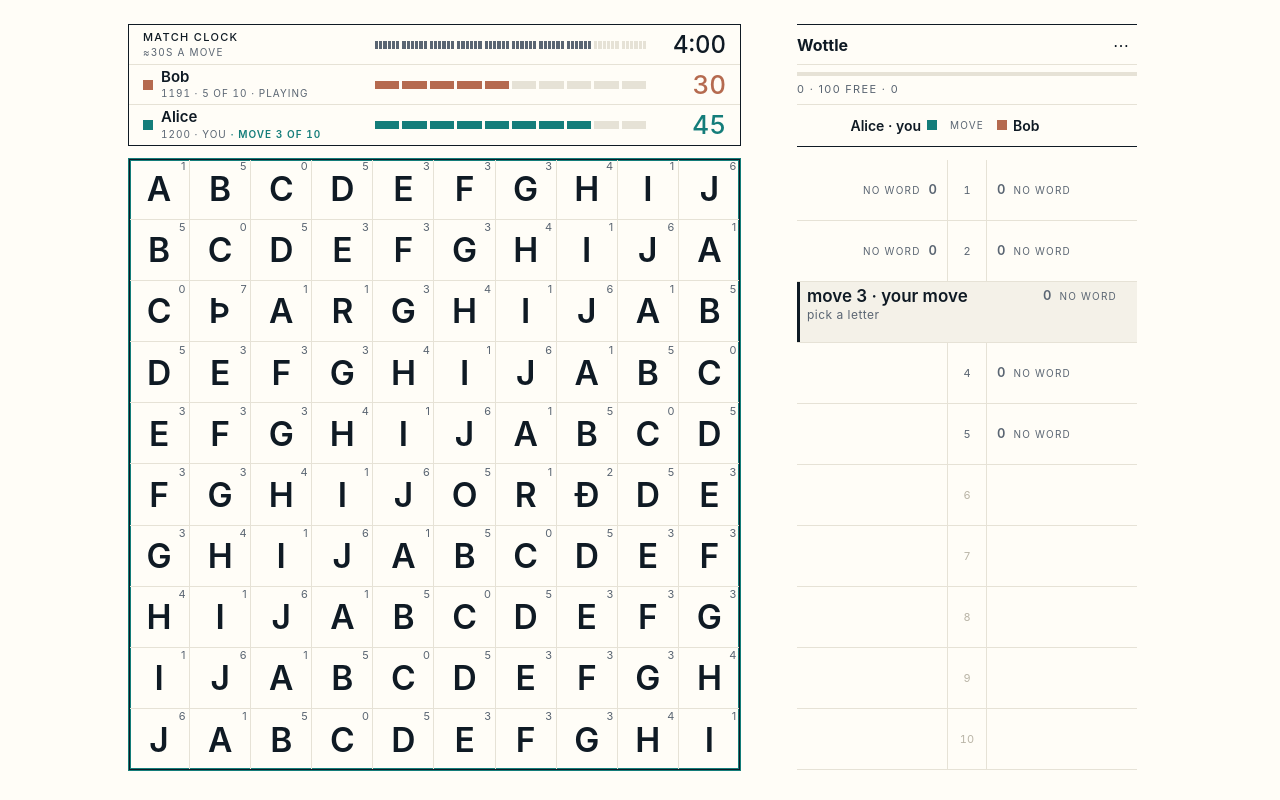
it: MatchRoomController (spec 050) › resign is decided on a slip that names your move and the clock (spec 048 US7)
Click the button with test id "ledger-menu-trigger" at {"x": 1121, "y": 44}, box top-left (1105, 30), bottom-right (1137, 58)
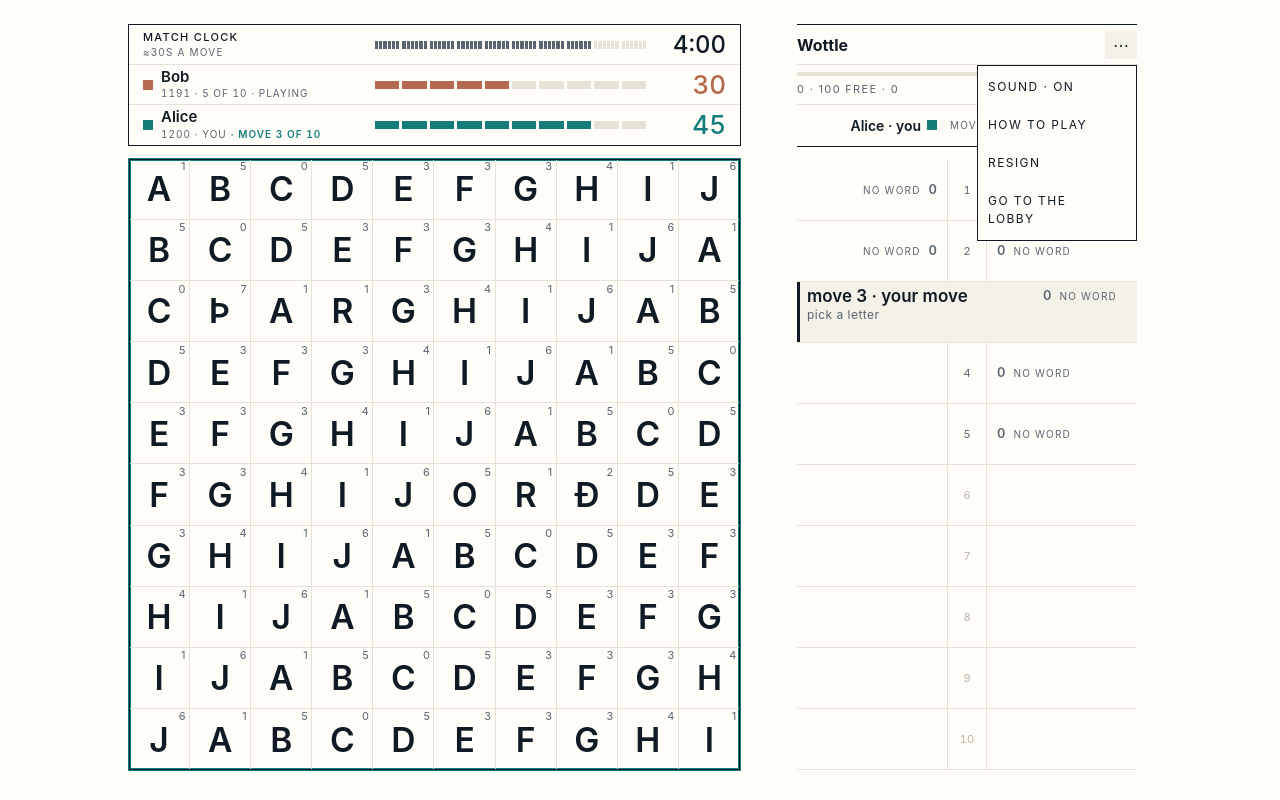
Click the menu item with test id "ledger-menu-item-resign" at {"x": 1049, "y": 162}, box top-left (980, 148), bottom-right (1118, 178)
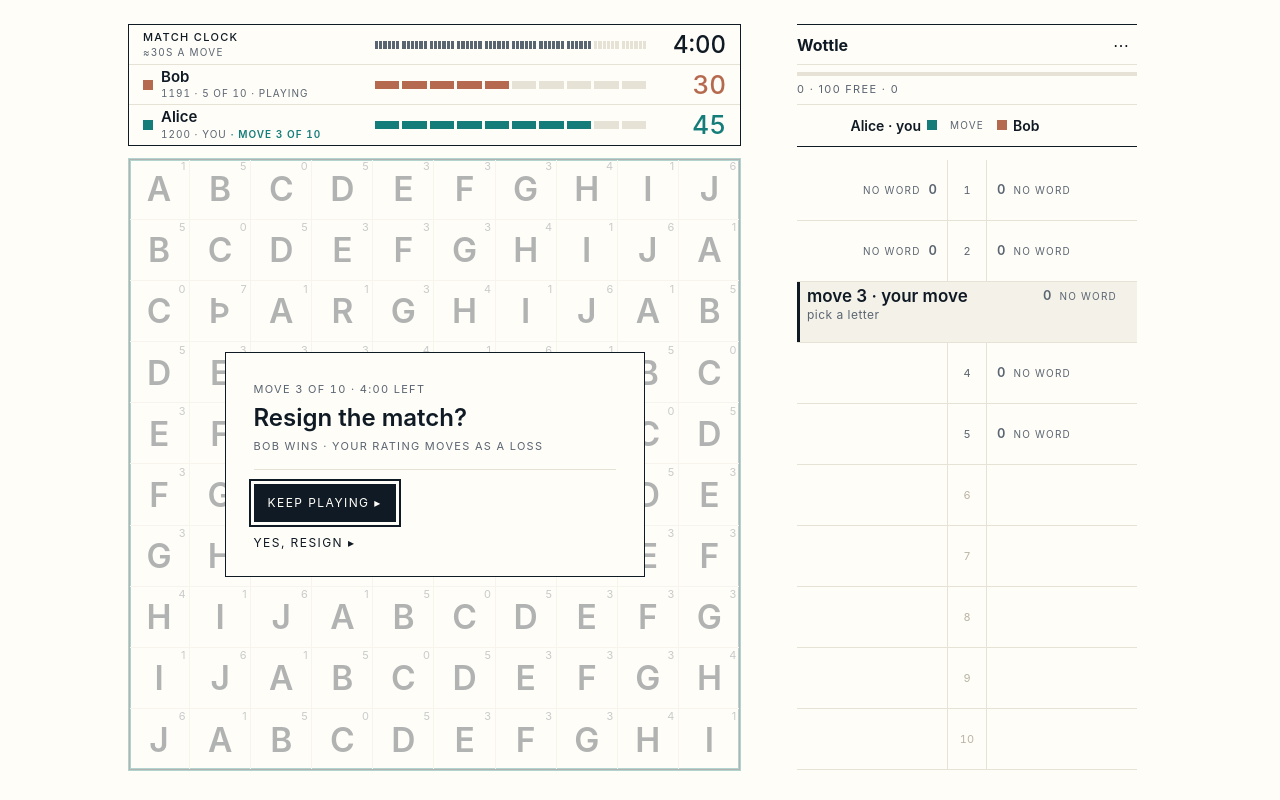
Expected: the dialog with test id "slip" shows "Resign the match?", top-left (254, 403), bottom-right (467, 432)
Expected: the dialog with test id "slip" shows "Bob wins · your rating moves as a loss", top-left (254, 439), bottom-right (543, 453)
Click the button with test id "slip-keep-playing" at {"x": 325, "y": 503}, box top-left (254, 484), bottom-right (396, 522)
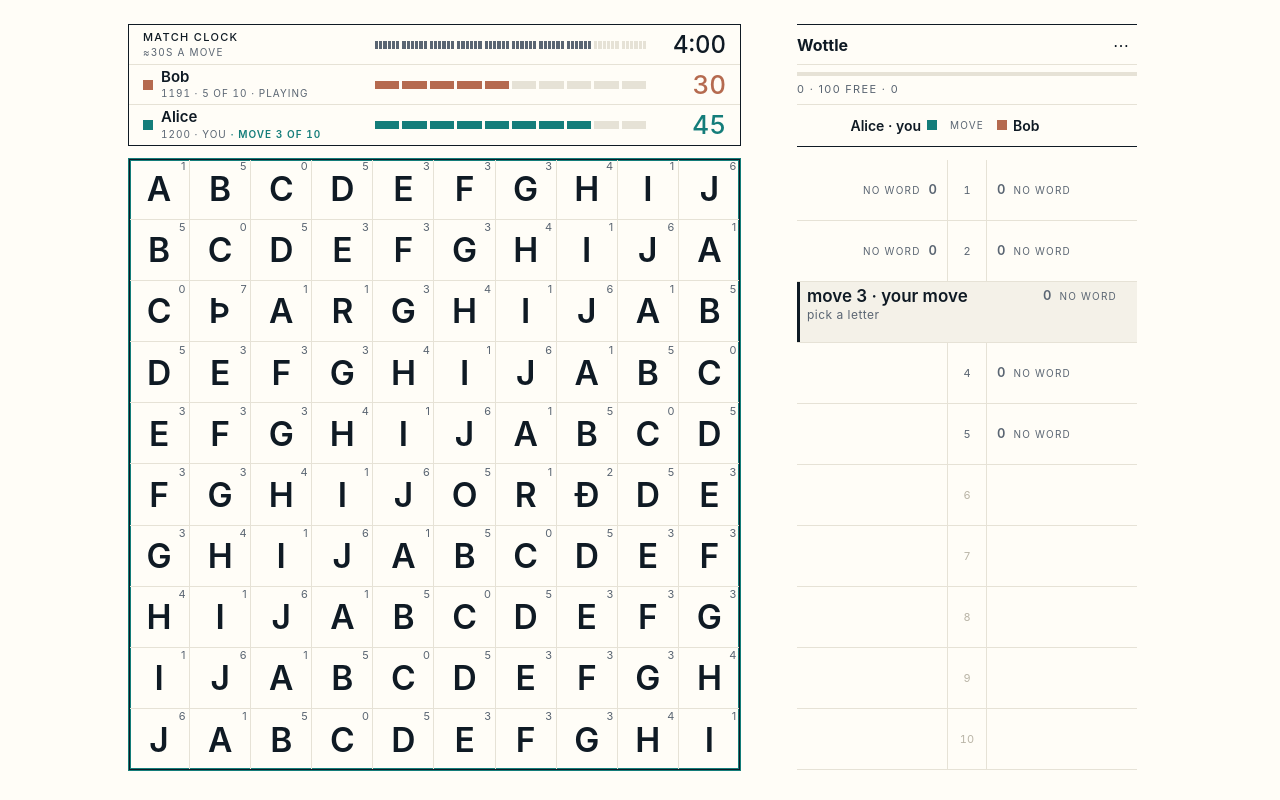
Expected: the dialog with test id "slip" is gone
Click the button with test id "ledger-menu-trigger" at {"x": 1121, "y": 44}, box top-left (1105, 30), bottom-right (1137, 58)
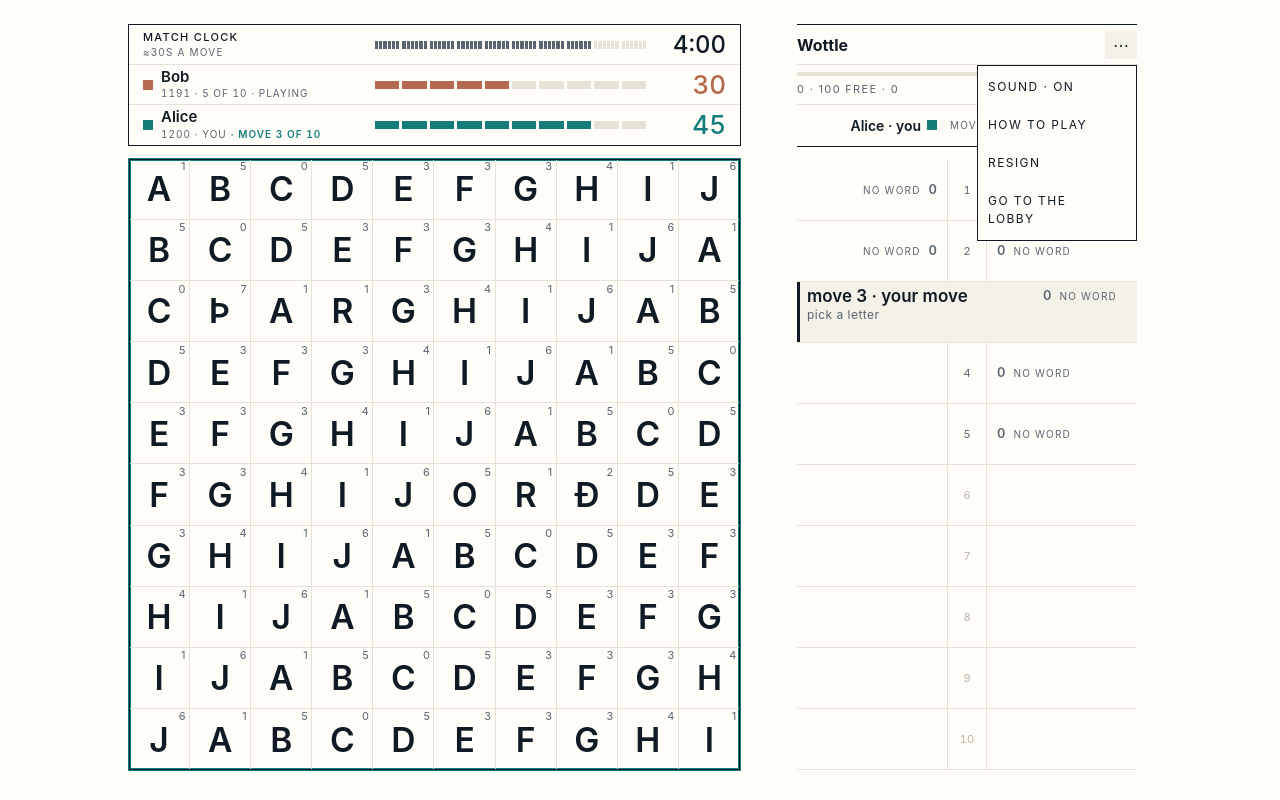
Click the menu item with test id "ledger-menu-item-resign" at {"x": 1049, "y": 162}, box top-left (980, 148), bottom-right (1118, 178)
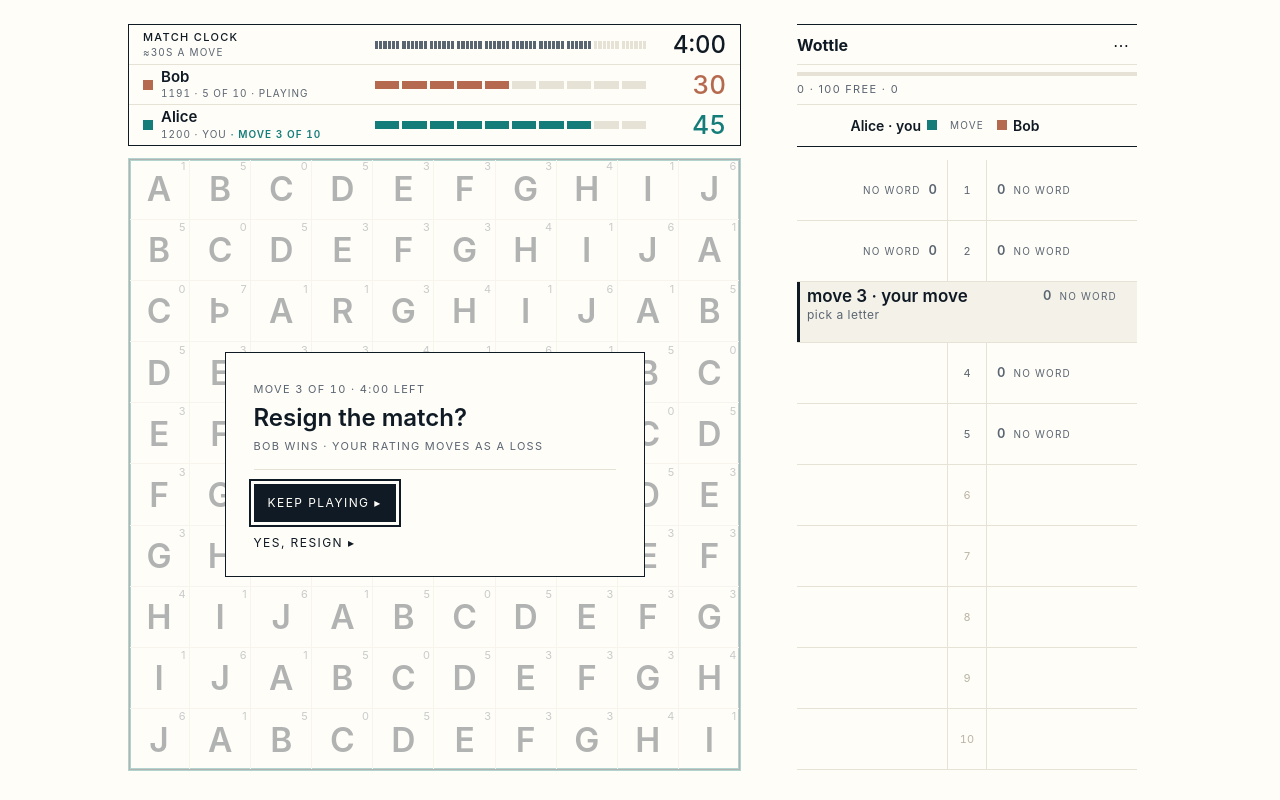
Click the button with test id "slip-confirm-resign" at {"x": 304, "y": 543}, box top-left (254, 534), bottom-right (355, 552)
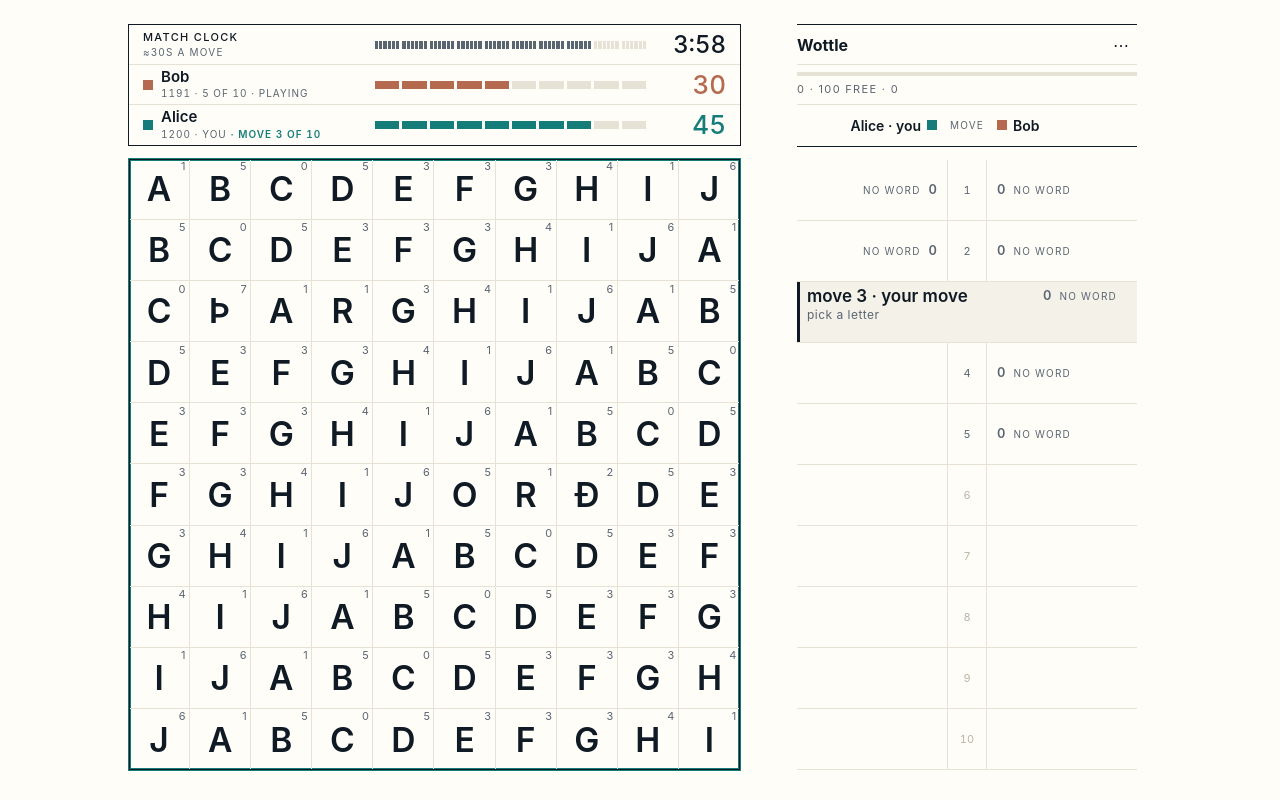
Expected: the dialog with test id "slip" is gone
